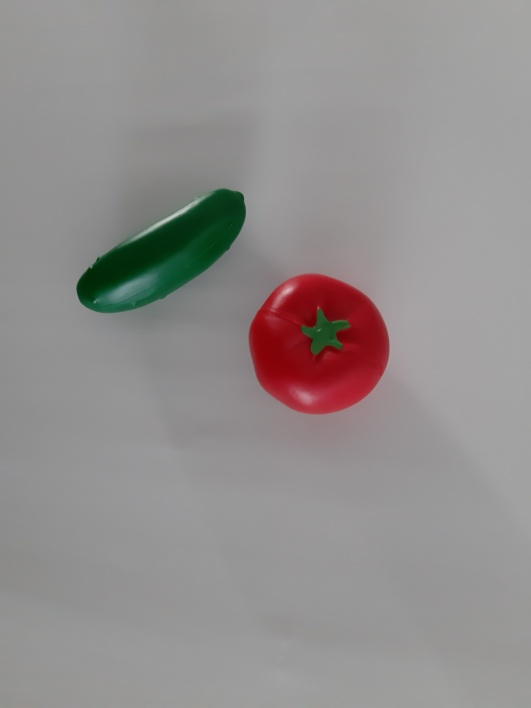cucumber: (67, 171, 259, 329)
tomato: (242, 263, 401, 427)
